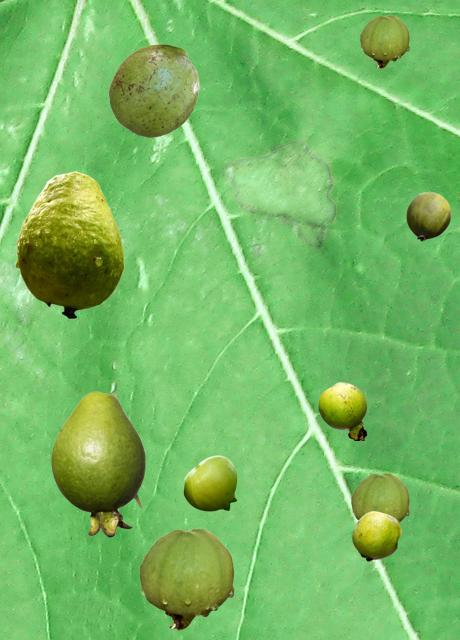guava: (15, 171, 123, 318), (51, 391, 144, 536), (139, 528, 233, 629), (108, 44, 198, 136), (183, 455, 236, 510), (351, 473, 408, 522), (318, 382, 366, 439), (360, 15, 408, 67), (352, 511, 400, 560), (406, 192, 450, 240)
